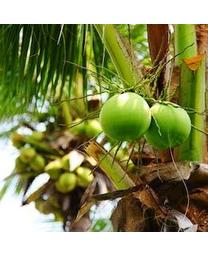coconut: (100, 92, 149, 149), (149, 95, 192, 153)
